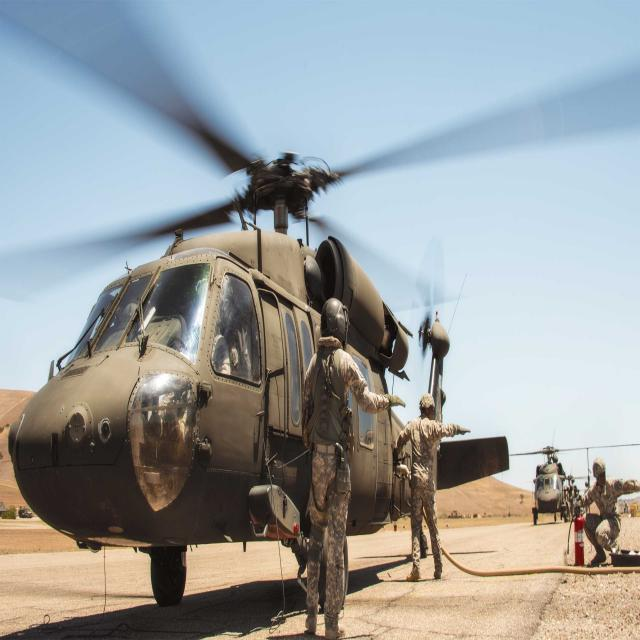helicopter: (13, 1, 507, 604)
